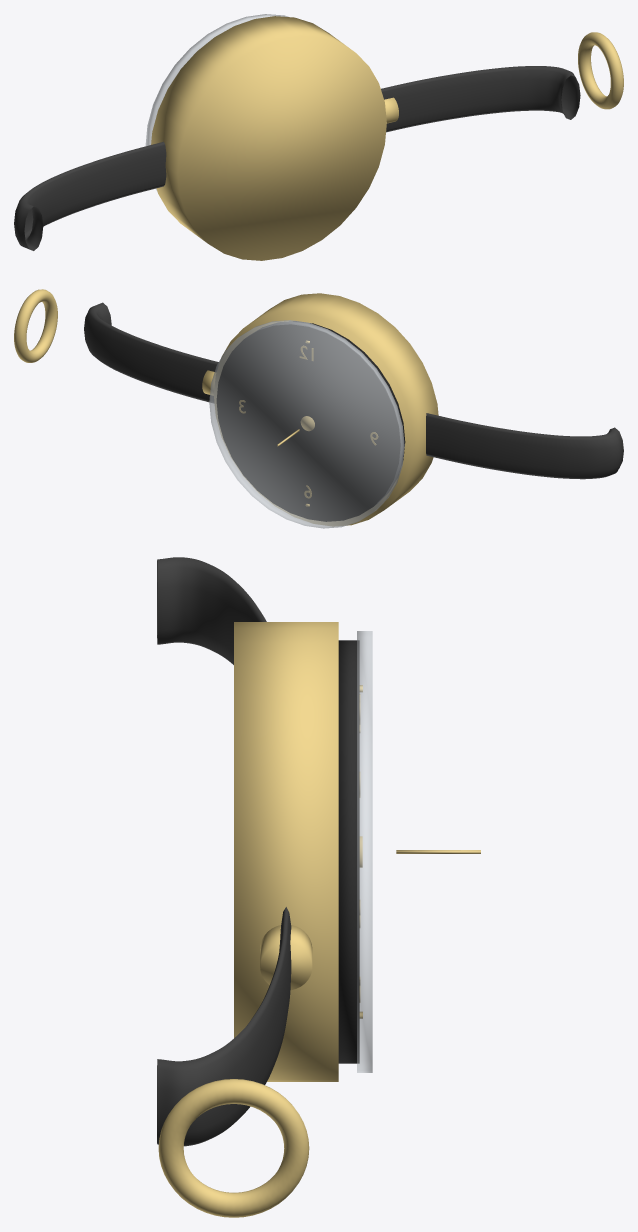
File: wristwatch_ar_classic_blue.glb
3 renders of one model, top to bottom at view 1: azimuth 30°, elevation 25°; view 2: azimuth 150°, elevation 25°; view 3: azimuth 270°, elevation 25°, orthographic. The views are drawn at different scales.
Parts seen in each view (by area): view 1: Watch_Case, Band_Right, Band_Left, Watch_Buckle, Watch_Glass, Watch_Glass.001; view 2: Watch_Glass, Watch_Glass.001, Watch_Dial, Watch_Case, Band_Left, Band_Right, Watch_Buckle; view 3: Watch_Case, Watch_Buckle, Watch_Dial, Band_Right, Band_Left, Watch_Glass, Watch_Glass.001, Watch_Crown.
Boxes of the visible parts, x1=… form: Watch_Case: x1=151, y1=16, x2=386, y2=260; Band_Right: x1=381, y1=66, x2=580, y2=132; Band_Left: x1=14, y1=141, x2=166, y2=250; Watch_Buckle: x1=578, y1=32, x2=623, y2=109; Watch_Glass: x1=146, y1=14, x2=287, y2=190; Watch_Glass.001: x1=146, y1=14, x2=287, y2=190; Watch_Glass: x1=209, y1=320, x2=404, y2=528; Watch_Glass.001: x1=209, y1=320, x2=404, y2=528; Watch_Dial: x1=216, y1=321, x2=405, y2=521; Watch_Case: x1=214, y1=293, x2=438, y2=526; Band_Left: x1=426, y1=413, x2=623, y2=479; Band_Right: x1=84, y1=302, x2=218, y2=402; Watch_Buckle: x1=14, y1=289, x2=57, y2=362; Watch_Case: x1=234, y1=622, x2=338, y2=1081; Watch_Buckle: x1=158, y1=1079, x2=309, y2=1217; Watch_Dial: x1=338, y1=640, x2=359, y2=1063; Band_Right: x1=157, y1=907, x2=291, y2=1146; Band_Left: x1=157, y1=557, x2=266, y2=664; Watch_Glass: x1=357, y1=631, x2=372, y2=1072; Watch_Glass.001: x1=357, y1=631, x2=372, y2=1072; Watch_Crown: x1=260, y1=925, x2=312, y2=990.
Bounding box in the file's own units: 0.1272 × 0.044 × 0.031.
